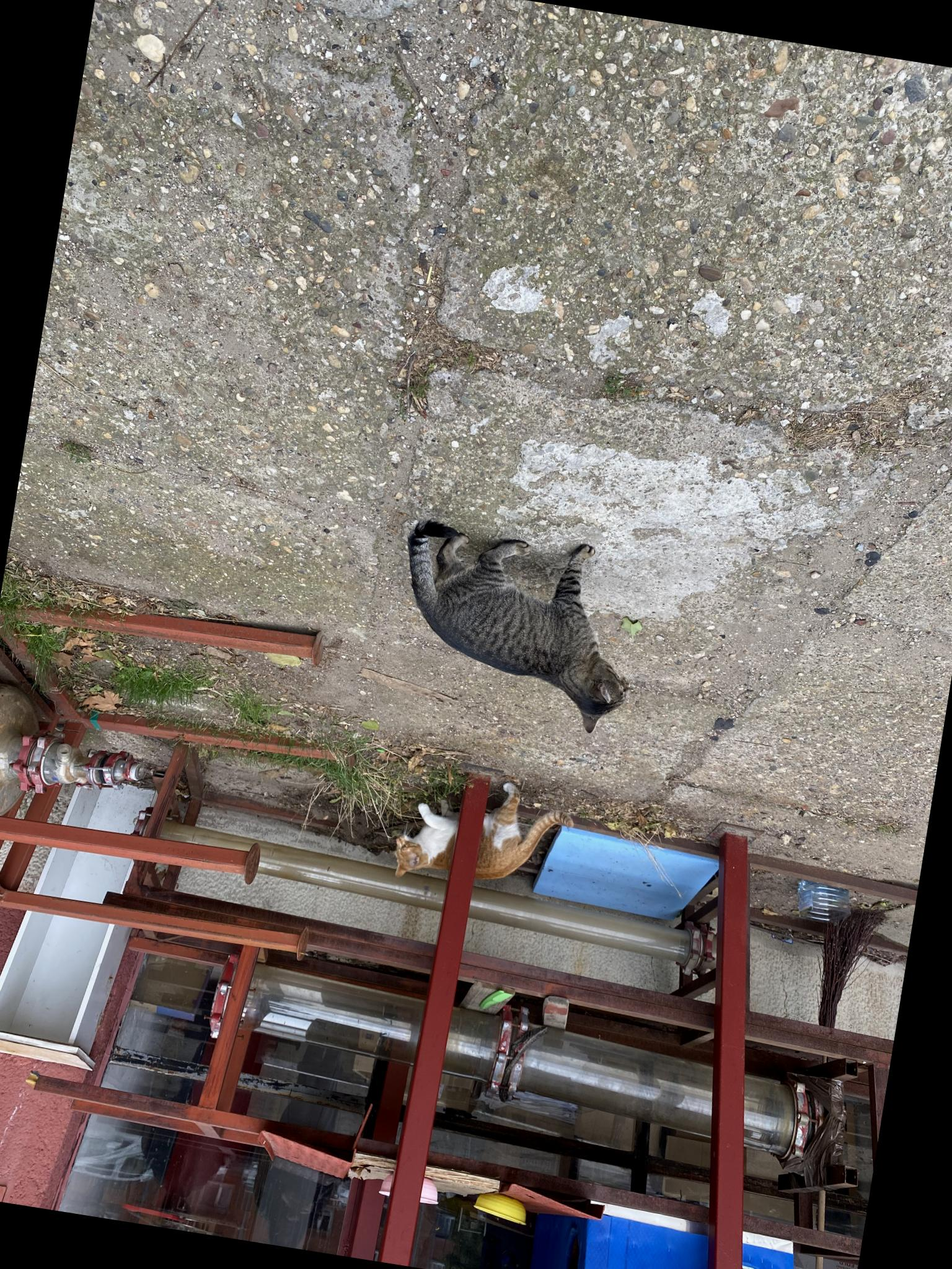macka: (384, 518, 651, 740), (390, 765, 580, 905)
